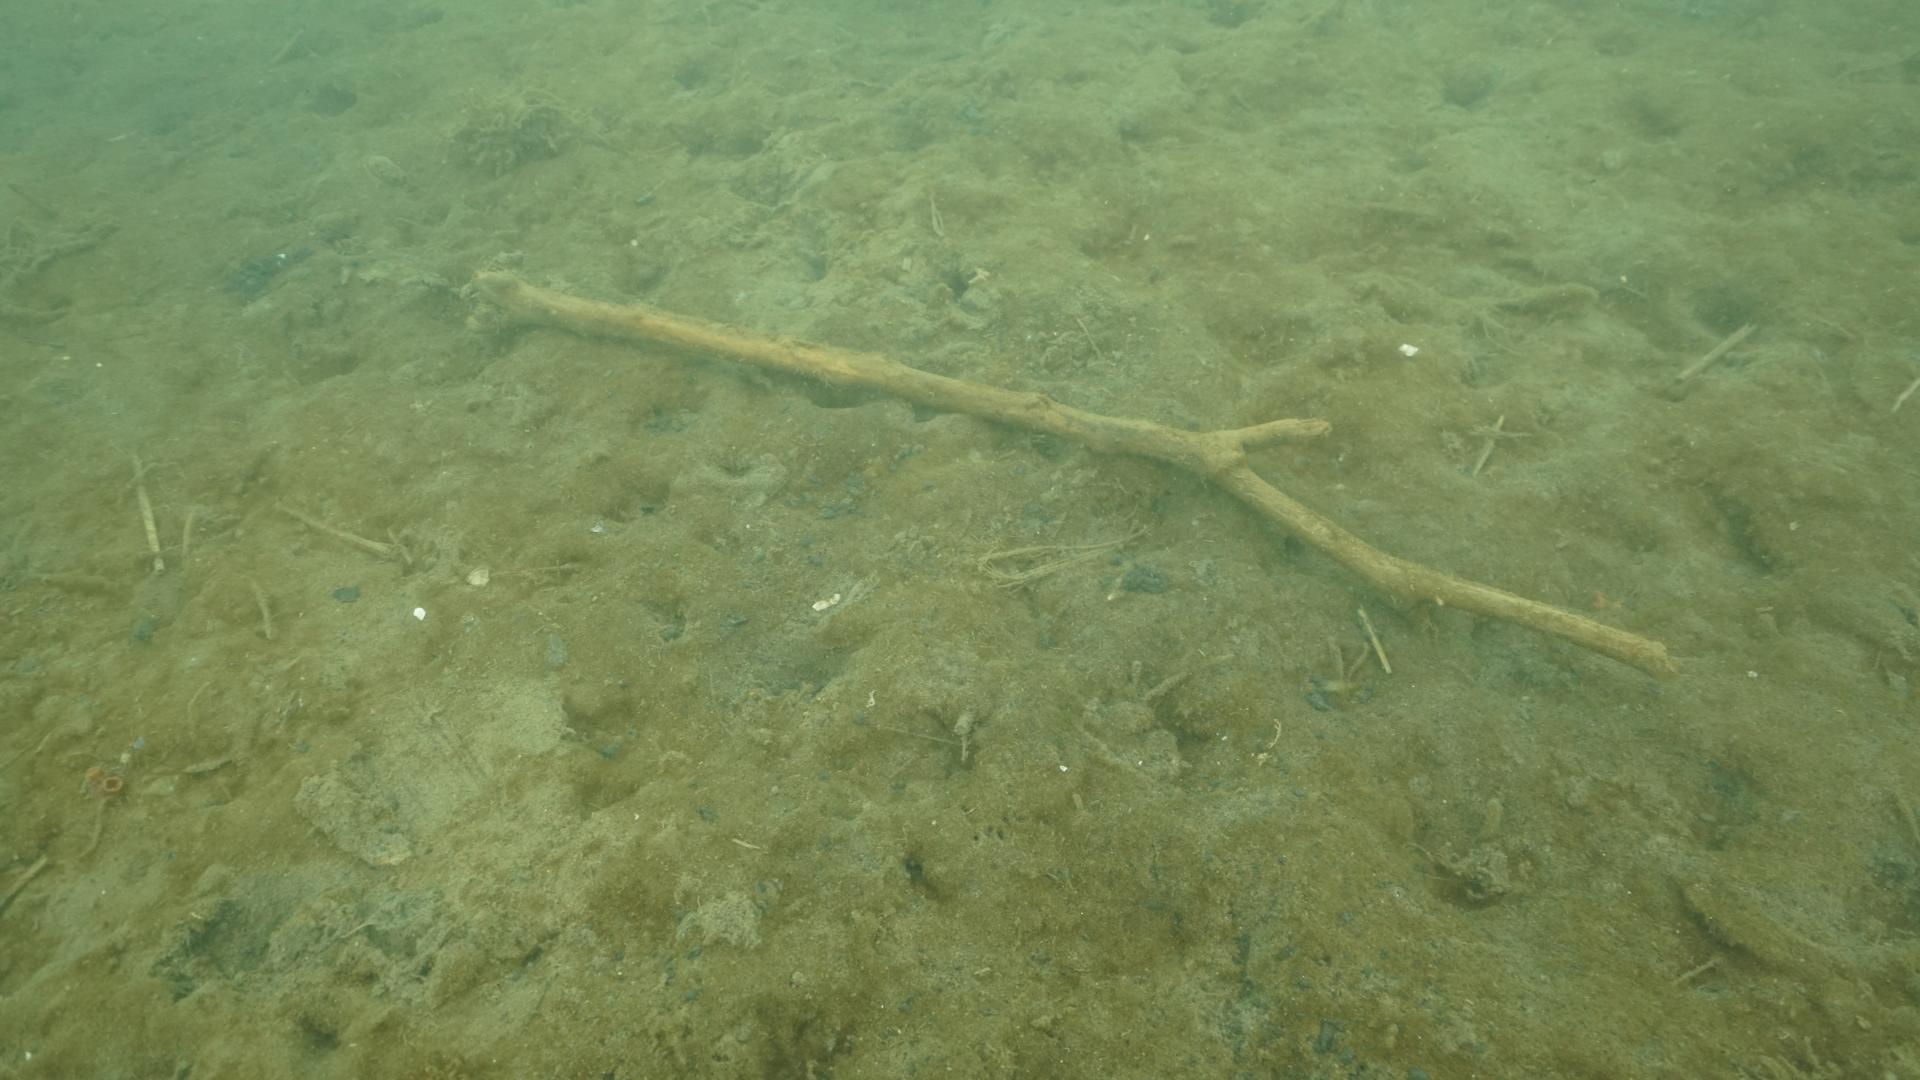wood: (455, 262, 1676, 680)
